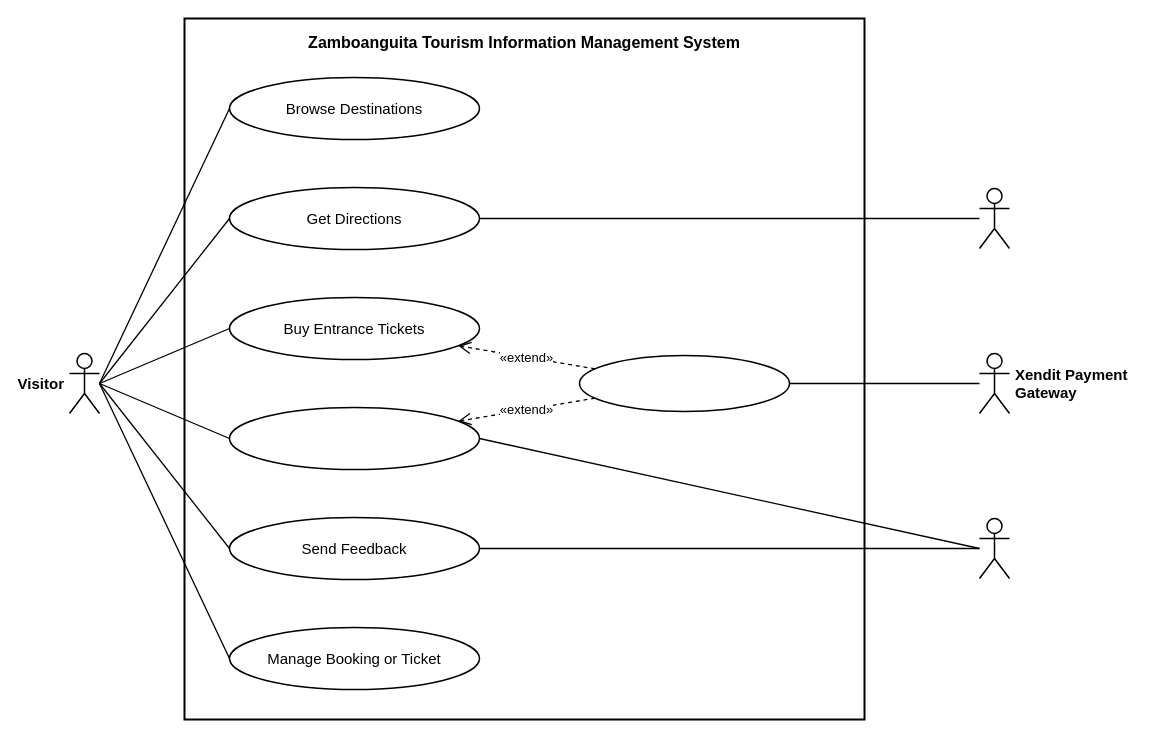
The diagram is 1170 pixels wide and 737 high, and some of its shapes have lost their labels. The centre of each missing label's shape, as x and y in pixels:
Book a Tour Guide: point 354,438
Map and Directions Providers: point 994,218
Pay Online: point 684,383
Tourism Officer: point 994,548
